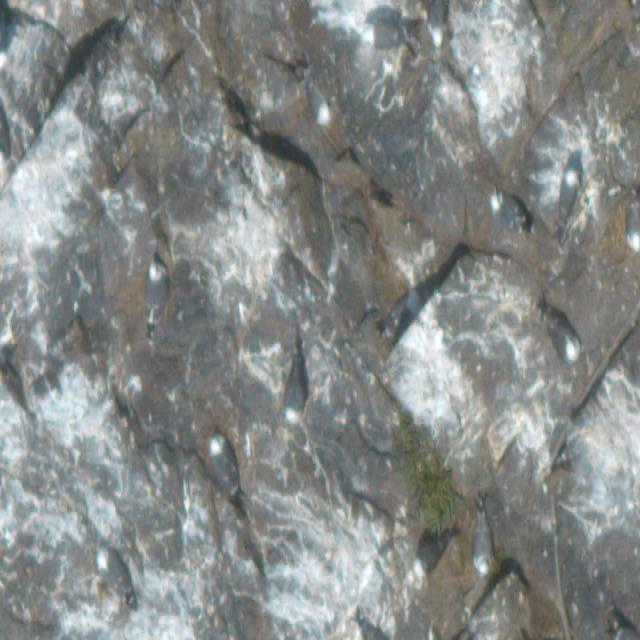umineko: (544, 304, 583, 366), (98, 543, 134, 601), (410, 529, 450, 580), (359, 18, 409, 58), (490, 188, 532, 230), (474, 502, 495, 583), (305, 72, 333, 128), (210, 440, 234, 485), (427, 0, 445, 53), (147, 267, 166, 312), (626, 196, 640, 257), (563, 172, 578, 208)
